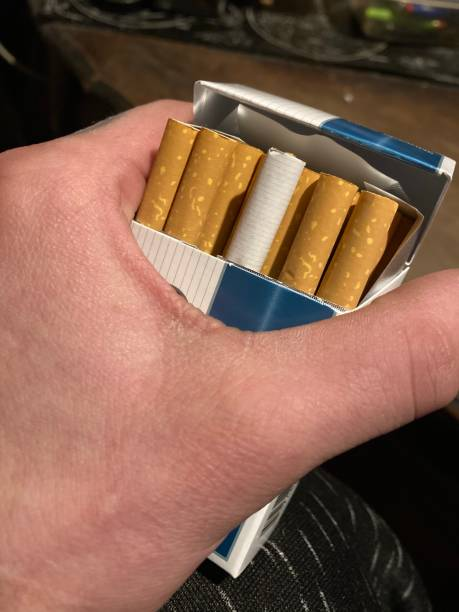cigarette: (127, 78, 459, 333), (221, 146, 307, 271), (315, 187, 400, 309), (279, 171, 358, 296), (163, 124, 239, 246), (198, 140, 266, 259), (135, 114, 200, 233), (259, 165, 321, 279)
